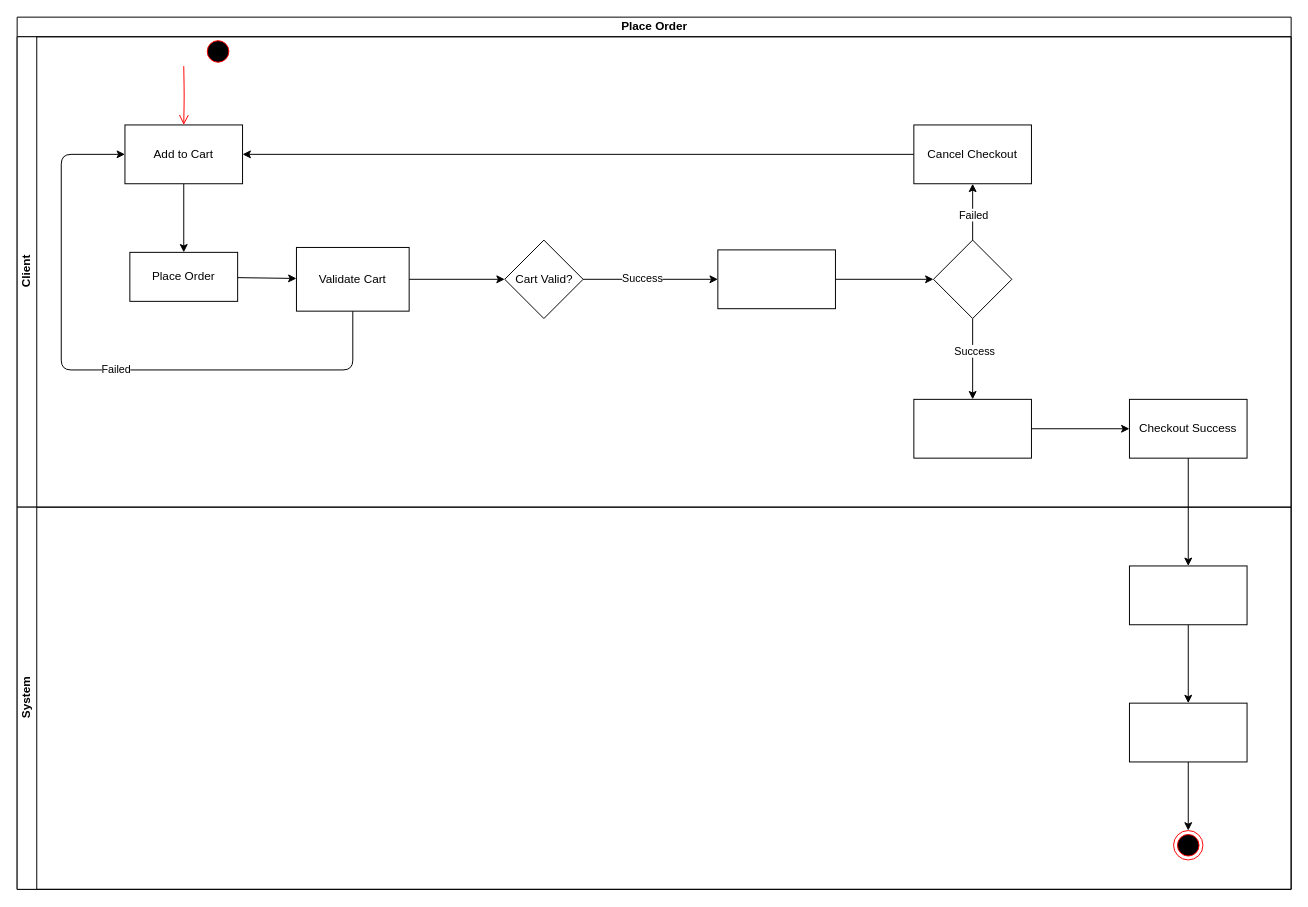
Image size: 1308x907. Some labels were removed from this diagram. Each missing label, with the centre of its shape:
Checkout: point (776, 279)
Choose Payment Method: point (972, 428)
Create Order (Pending): point (1187, 595)
Proceed to Checkout?: point (972, 278)
Reserve Inventory: point (1187, 732)
